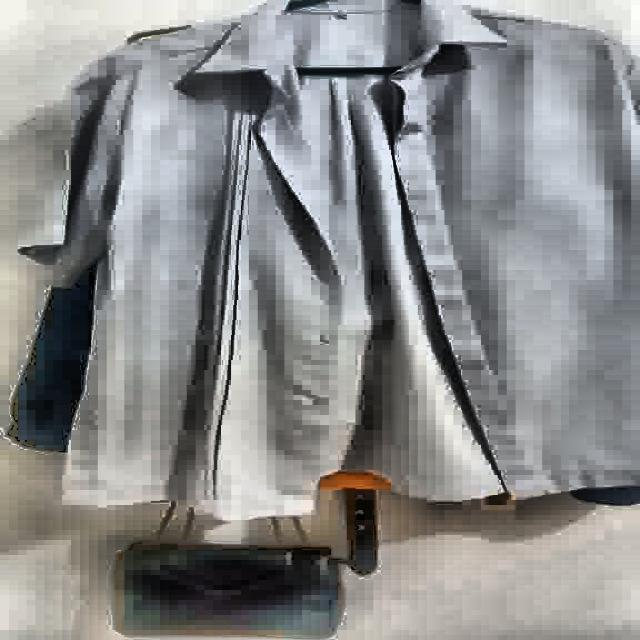clothes: (22, 2, 640, 520)
